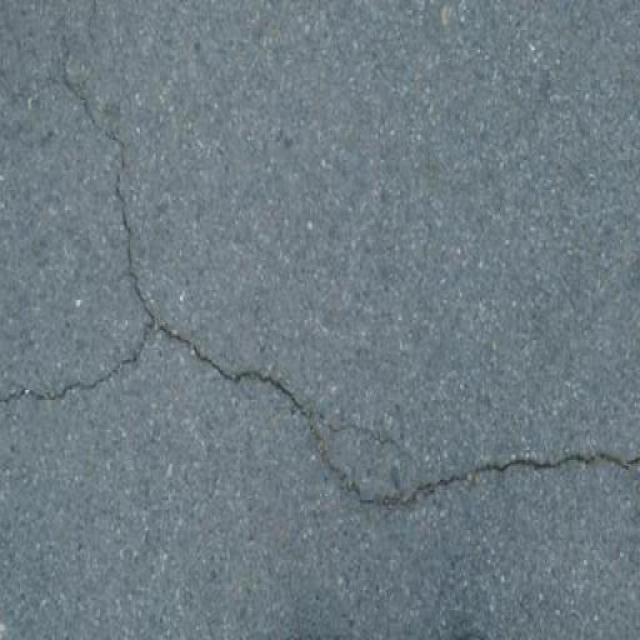Crack: (0, 308, 639, 532), (54, 37, 178, 318)
